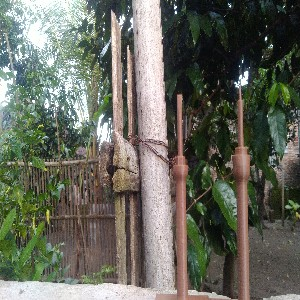obeng: (171, 93, 189, 300)
solder: (231, 78, 252, 300)
